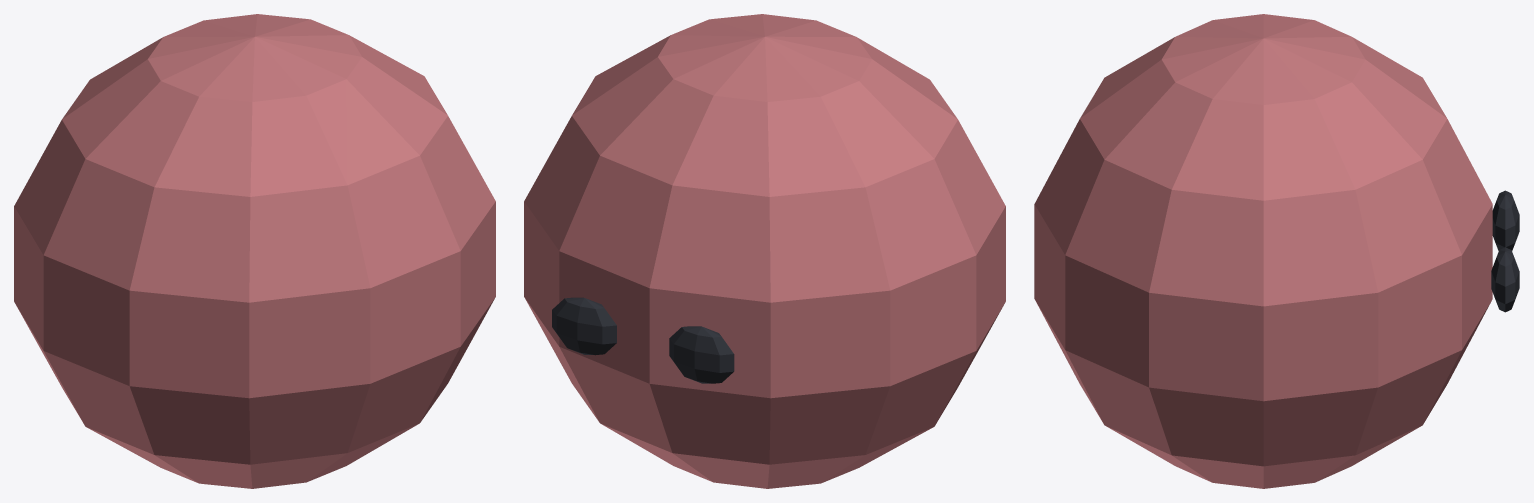
Rendered from fingerspike_head.obj.
3 views of the same model, side by side, from view 1: azimuth 30°, elevation 25°; view 2: azimuth 150°, elevation 25°; view 3: azimuth 270°, elevation 25° (orthographic).
Parts seen in each view (by area): view 1: fingerspike_head; view 2: fingerspike_head; view 3: fingerspike_head.
Part boxes in pixels (left/top/right/bottom): fingerspike_head: left=14, top=14, right=495, bottom=488; fingerspike_head: left=524, top=14, right=1005, bottom=488; fingerspike_head: left=1034, top=14, right=1519, bottom=488.
Bounding box in the file's own units: 0.3102 × 0.301 × 0.3106.
